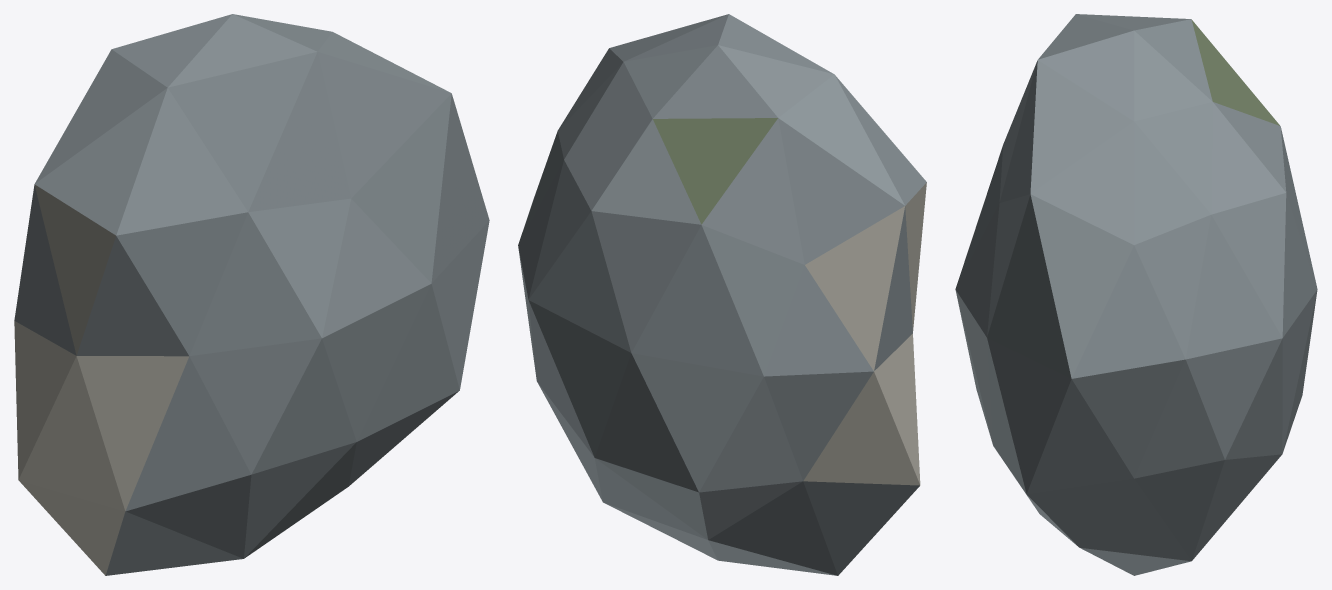
The model's file is alpine_rock.glb.
The picture shows the model from 3 angles, left to right: view 1: azimuth 30°, elevation 25°; view 2: azimuth 150°, elevation 25°; view 3: azimuth 270°, elevation 25°; orthographic projection. The views are drawn at different scales.
Parts seen in each view (by area): view 1: alpine_rock LOD0; view 2: alpine_rock LOD0; view 3: alpine_rock LOD0.
Part boxes in pixels (x1,y1,x2,y2): alpine_rock LOD0: (14,14,489,575); alpine_rock LOD0: (518,14,926,575); alpine_rock LOD0: (955,14,1317,575).
Size of what is drawn, in the model's own units: 3.43 by 4.06 by 2.44.
